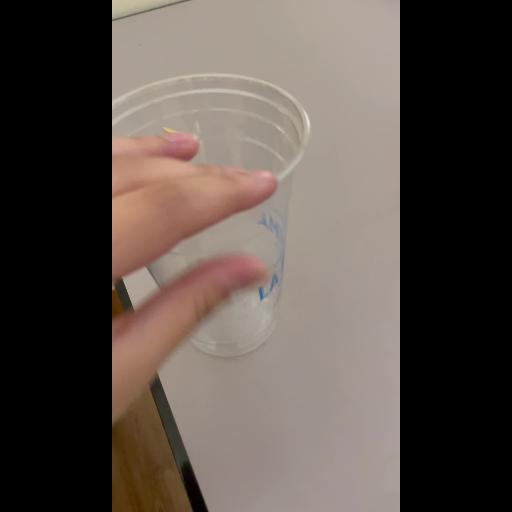lp_plastic_cup: (114, 72, 314, 366)
